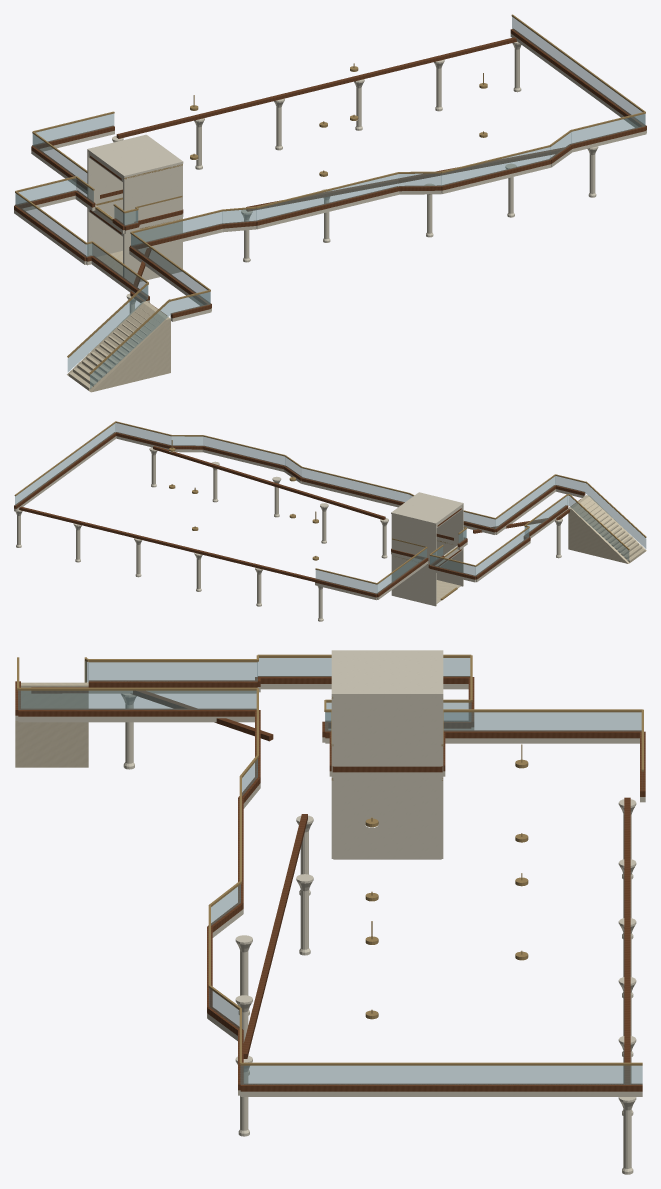
File: AST-DIN-004.glb
3 renders of one model, top to bottom at view 1: azimuth 30°, elevation 25°; view 2: azimuth 150°, elevation 25°; view 3: azimuth 270°, elevation 25°, orthographic. The views are drawn at different scales.
Parts seen in each view (by area): view 1: MEZ_LiftShaftSide_1, MEZ_StairCarcass, MEZ_LiftShaftSide_-1, MEZ_VisibleEdgeGirder_0, MEZ_LiftClosedCap, MEZ_GuardGlass_22, MEZ_GuardGlass_4, MEZ_VisibleEdgeGirder_1, MEZ_GuardGlass_1, MEZ_StairGlass_-1, MEZ_StairGlass_1, MEZ_GuardGlass_20 (+13 smaller); view 2: MEZ_LiftShaftSide_-1, MEZ_StairCarcass, MEZ_VisibleEdgeGirder_0, MEZ_LiftShaftSide_1, MEZ_LiftClosedCap, MEZ_VisibleEdgeGirder_1, MEZ_GuardGlass_22, MEZ_GuardGlass_4, MEZ_GuardGlass_1, MEZ_StairGlass_-1, MEZ_StairGlass_1, MEZ_GuardGlass_5 (+15 smaller); view 3: MEZ_LiftShaftRear, MEZ_GuardGlass_4, MEZ_GuardGlass_19, MEZ_LiftClosedCap, MEZ_StairCarcass, MEZ_GuardGlass_6, MEZ_GuardPlinth_4, MEZ_GuardGlass_17, MEZ_ProfiledEdge_4, MEZ_GuardPlinth_19, MEZ_VisibleEdgeGirder_0, MEZ_VisibleEdgeGirder_1 (+13 smaller).
Part boxes in pixels (x1,y1,x2,y2): MEZ_LiftShaftSide_1: (123, 161, 182, 283); MEZ_StairCarcass: (67, 301, 170, 392); MEZ_LiftShaftSide_-1: (87, 135, 146, 256); MEZ_VisibleEdgeGirder_0: (116, 37, 516, 138); MEZ_LiftClosedCap: (88, 134, 183, 177); MEZ_GuardGlass_22: (256, 174, 398, 220); MEZ_GuardGlass_4: (512, 17, 645, 125); MEZ_VisibleEdgeGirder_1: (246, 147, 564, 211); MEZ_GuardGlass_1: (441, 147, 549, 185); MEZ_StairGlass_-1: (67, 285, 147, 371); MEZ_StairGlass_1: (90, 302, 169, 388); MEZ_GuardGlass_20: (131, 212, 222, 245); MEZ_LiftShaftSide_-1: (391, 512, 436, 606); MEZ_StairCarcass: (568, 495, 646, 563); MEZ_VisibleEdgeGirder_0: (19, 506, 315, 581); MEZ_LiftShaftSide_1: (419, 492, 463, 586); MEZ_LiftClosedCap: (391, 492, 463, 524); MEZ_VisibleEdgeGirder_1: (153, 446, 385, 519); MEZ_GuardGlass_22: (302, 468, 409, 502); MEZ_GuardGlass_4: (15, 423, 115, 505); MEZ_GuardGlass_1: (203, 436, 284, 465); MEZ_StairGlass_-1: (569, 496, 629, 560); MEZ_StairGlass_1: (586, 483, 646, 548); MEZ_GuardGlass_5: (315, 570, 376, 593); MEZ_LiftShaftRear: (333, 692, 441, 859); MEZ_GuardGlass_4: (241, 1065, 642, 1084); MEZ_GuardGlass_19: (18, 690, 256, 709); MEZ_LiftClosedCap: (331, 650, 443, 696); MEZ_StairCarcass: (15, 682, 88, 767); MEZ_GuardGlass_6: (443, 712, 641, 731); MEZ_GuardPlinth_4: (240, 1083, 642, 1091); MEZ_GuardGlass_17: (89, 662, 257, 681); MEZ_ProfiledEdge_4: (240, 1091, 642, 1096); MEZ_GuardPlinth_19: (18, 708, 256, 716); MEZ_VisibleEdgeGirder_0: (624, 797, 630, 1083); MEZ_VisibleEdgeGirder_1: (243, 814, 307, 1058).
Size of the model in its own units: 42.86 by 7.24 by 24.42.
Materials: 6 (4 with a texture image).
